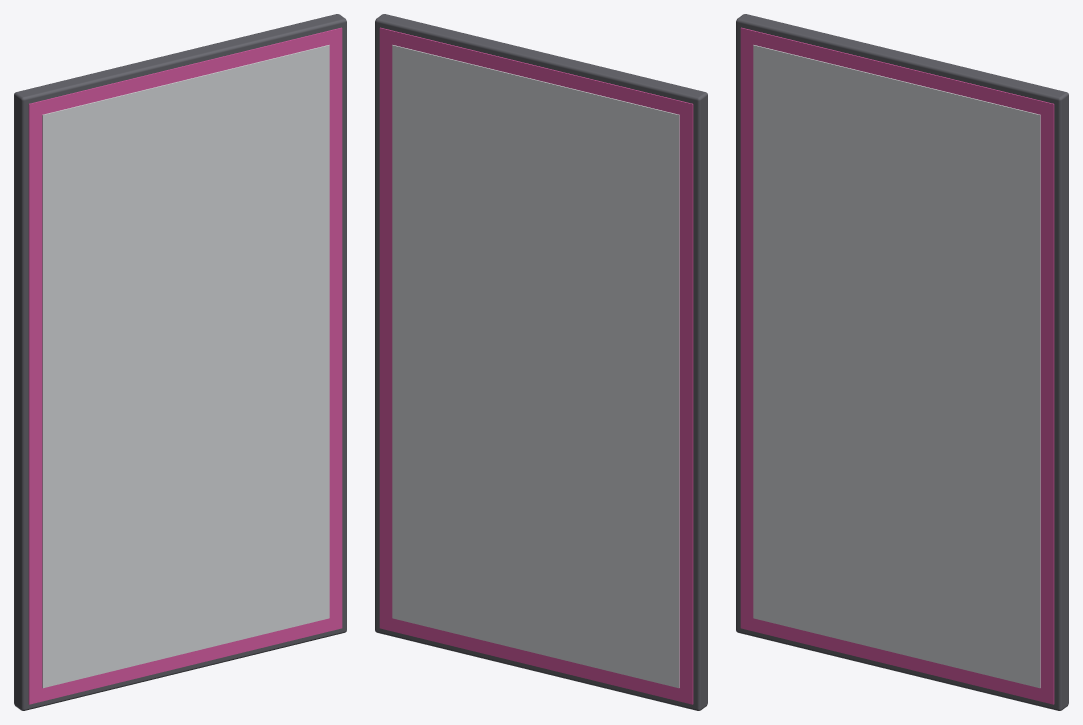
File: tattoo-and-piercing-studio-mirror-wall-panel-d6b55bd5__34528.glb
The picture shows the model from 3 angles, left to right: view 1: azimuth 30°, elevation 25°; view 2: azimuth 150°, elevation 25°; view 3: azimuth 330°, elevation 25°; orthographic projection.
Visible parts, largest first — view 1: mirror-wall-panel; view 2: mirror-wall-panel; view 3: mirror-wall-panel.
Part boxes in pixels (<box>): mirror-wall-panel: <box>14,14,346,710</box>; mirror-wall-panel: <box>375,14,707,710</box>; mirror-wall-panel: <box>736,14,1068,710</box>.
Bounding box in the file's own units: 1 × 1.8 × 0.0619.
